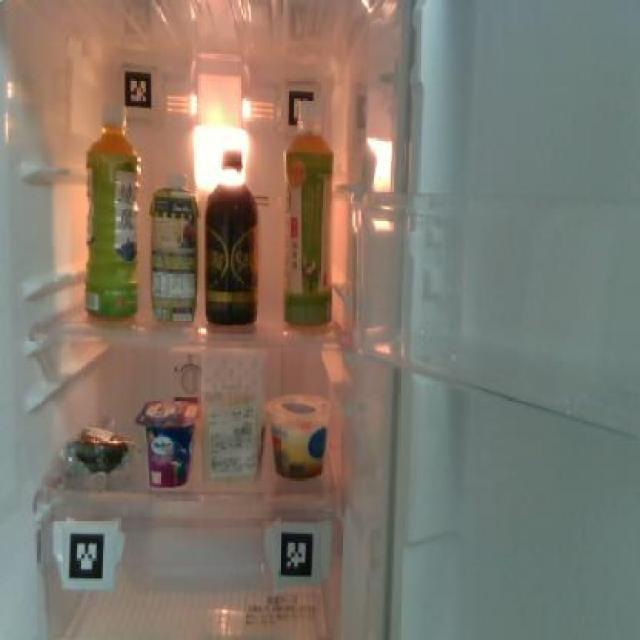bottle: (83, 102, 142, 324), (276, 127, 335, 333)
coffee: (203, 146, 262, 328)
pudding: (266, 393, 331, 476)
rice_ball: (59, 418, 133, 480)
sandwich: (199, 348, 264, 484)
smoothie: (147, 167, 200, 326)
yogurt: (133, 397, 198, 488)
